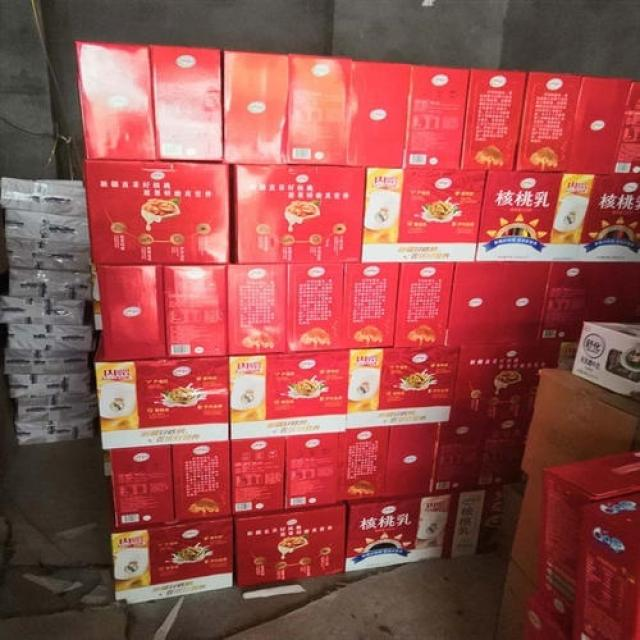box: (538, 448, 639, 639), (84, 158, 233, 267), (518, 367, 639, 491), (437, 341, 580, 444), (232, 165, 367, 263), (97, 357, 230, 450), (359, 167, 487, 260), (477, 166, 598, 264), (115, 514, 234, 605), (230, 351, 350, 441), (234, 503, 352, 590), (75, 39, 160, 159), (343, 491, 451, 576), (350, 348, 459, 429), (450, 259, 552, 345), (151, 48, 225, 158), (538, 262, 639, 338), (345, 61, 415, 167), (285, 53, 351, 163), (224, 53, 288, 166), (402, 65, 471, 166), (461, 66, 528, 170), (98, 264, 166, 365), (514, 70, 583, 168), (567, 75, 634, 172), (163, 263, 230, 357), (108, 446, 178, 530), (570, 321, 639, 406), (227, 264, 289, 356), (434, 433, 532, 491), (343, 259, 403, 348), (170, 439, 234, 522), (5, 208, 91, 269), (446, 484, 514, 560), (581, 172, 639, 261), (394, 262, 455, 345), (290, 262, 345, 354), (382, 422, 441, 503), (285, 435, 345, 511), (231, 439, 286, 517), (15, 396, 99, 444), (497, 551, 542, 639), (0, 174, 88, 218), (4, 356, 92, 399), (345, 426, 392, 506), (511, 482, 543, 591), (3, 324, 95, 359), (7, 266, 96, 301), (1, 295, 83, 325), (521, 597, 579, 639), (615, 76, 639, 169)
